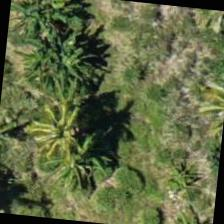Kelapa_Sawit: (24, 90, 122, 190)
